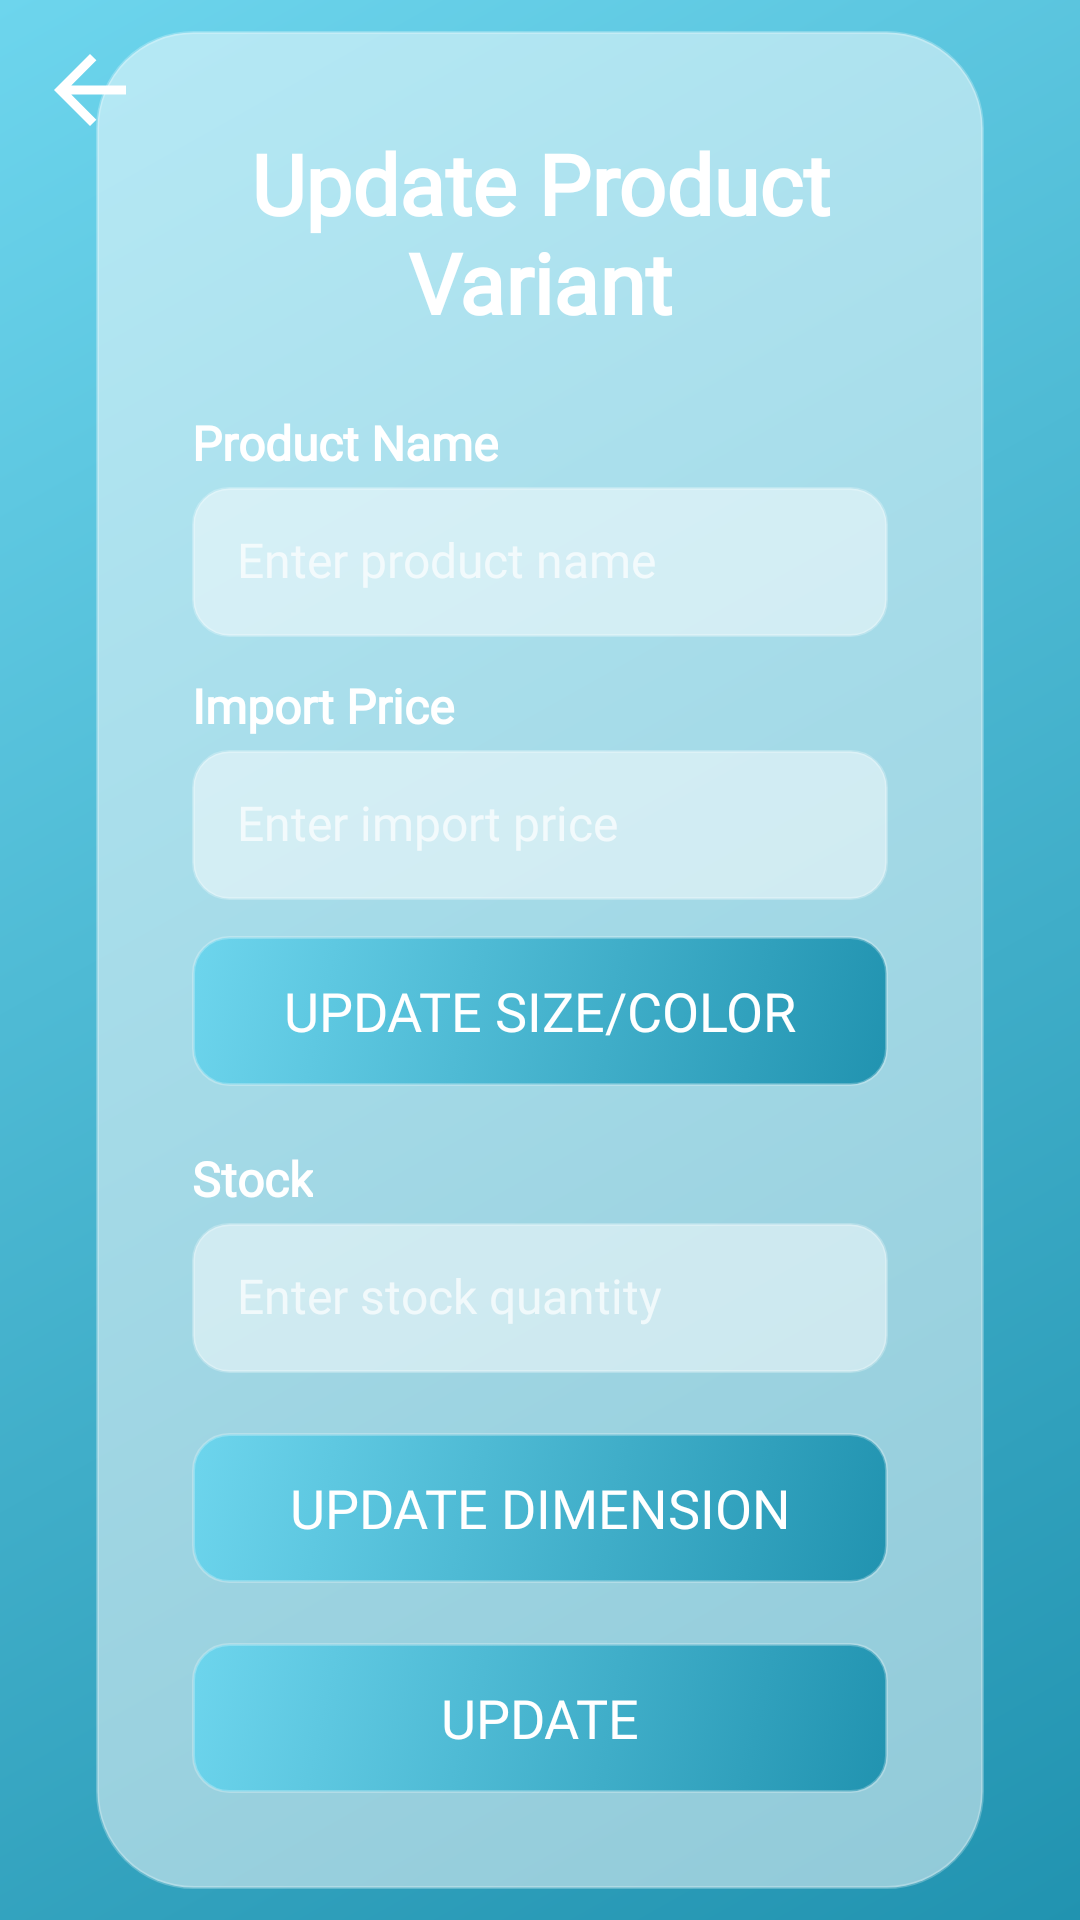

Screen size 1080×1920. Icon name, then its center in pixels as [x,y]:
arrow back: [90,90]
